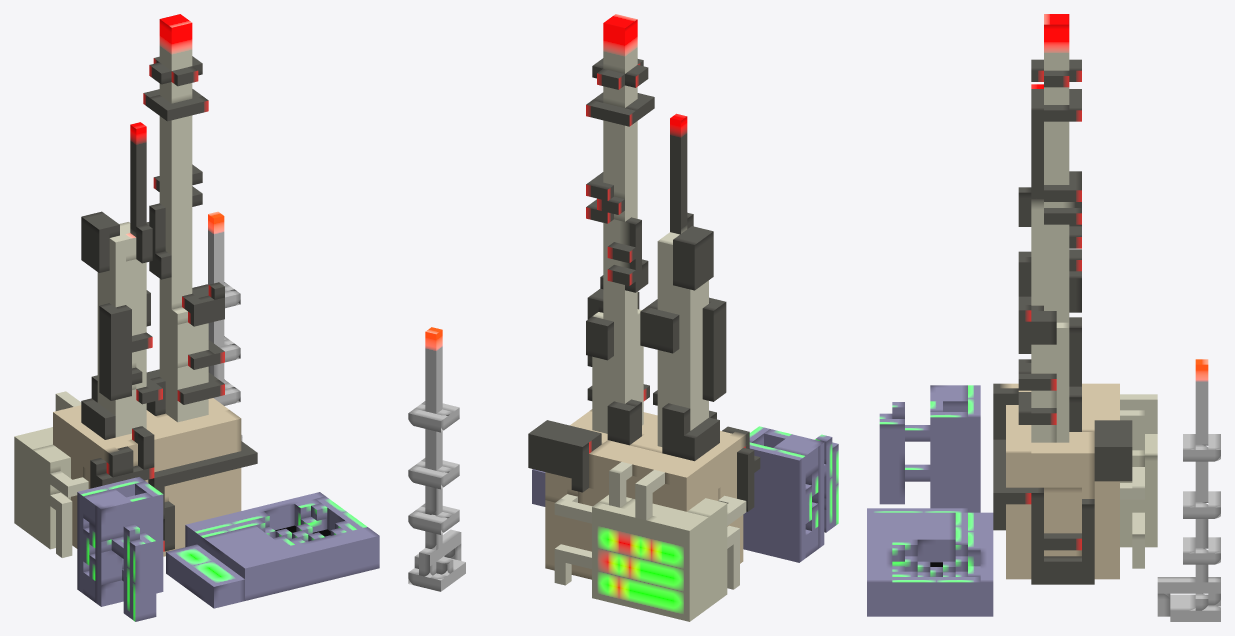
The model's file is antena_wenty.dae.
The picture shows the model from 3 angles, left to right: view 1: azimuth 30°, elevation 25°; view 2: azimuth 150°, elevation 25°; view 3: azimuth 270°, elevation 25°; orthographic projection. The views are drawn at different scales.
Visible parts, largest first — view 1: Content; view 2: Content; view 3: Content.
Boxes of the visible parts, x1,y1,x2,y2 form: Content: [14, 14, 379, 621]; Content: [408, 14, 838, 621]; Content: [867, 14, 1220, 621].
Bounding box in the file's own units: 25 × 47 × 28.
Materials: 1 (1 with a texture image).
